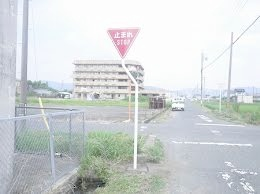Regulatory_sign_triangle: (107, 26, 143, 61)
